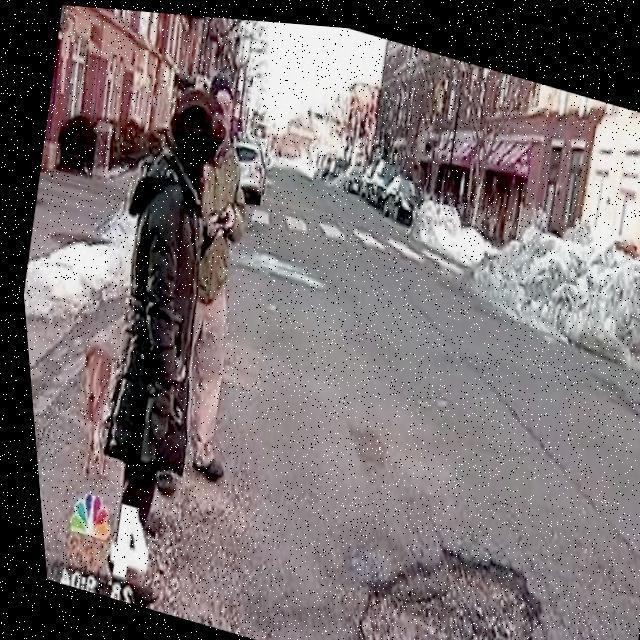pothole: (328, 505, 547, 640)
